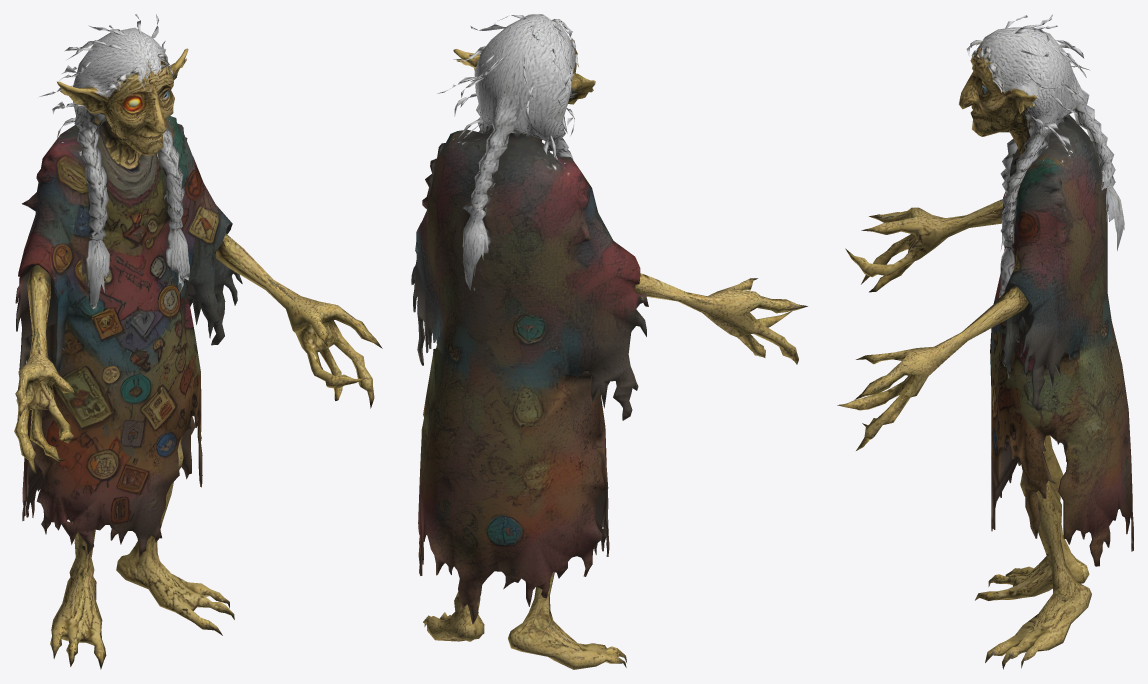
Rendered from selected.glb.
The picture shows the model from 3 angles, left to right: view 1: azimuth 30°, elevation 25°; view 2: azimuth 150°, elevation 25°; view 3: azimuth 270°, elevation 25°; orthographic projection. The views are drawn at different scales.
Parts seen in each view (by area): view 1: tripo_node_8c422284-c99c-4071-af5e-9ea7664b2b04; view 2: tripo_node_8c422284-c99c-4071-af5e-9ea7664b2b04; view 3: tripo_node_8c422284-c99c-4071-af5e-9ea7664b2b04.
Part boxes in pixels (x1,y1,x2,y2): tripo_node_8c422284-c99c-4071-af5e-9ea7664b2b04: [14, 14, 382, 669]; tripo_node_8c422284-c99c-4071-af5e-9ea7664b2b04: [411, 14, 807, 669]; tripo_node_8c422284-c99c-4071-af5e-9ea7664b2b04: [837, 14, 1133, 669].
Bounding box in the file's own units: 0.6035 × 0.998 × 0.4434.
Materials: 1 (1 with a texture image).
